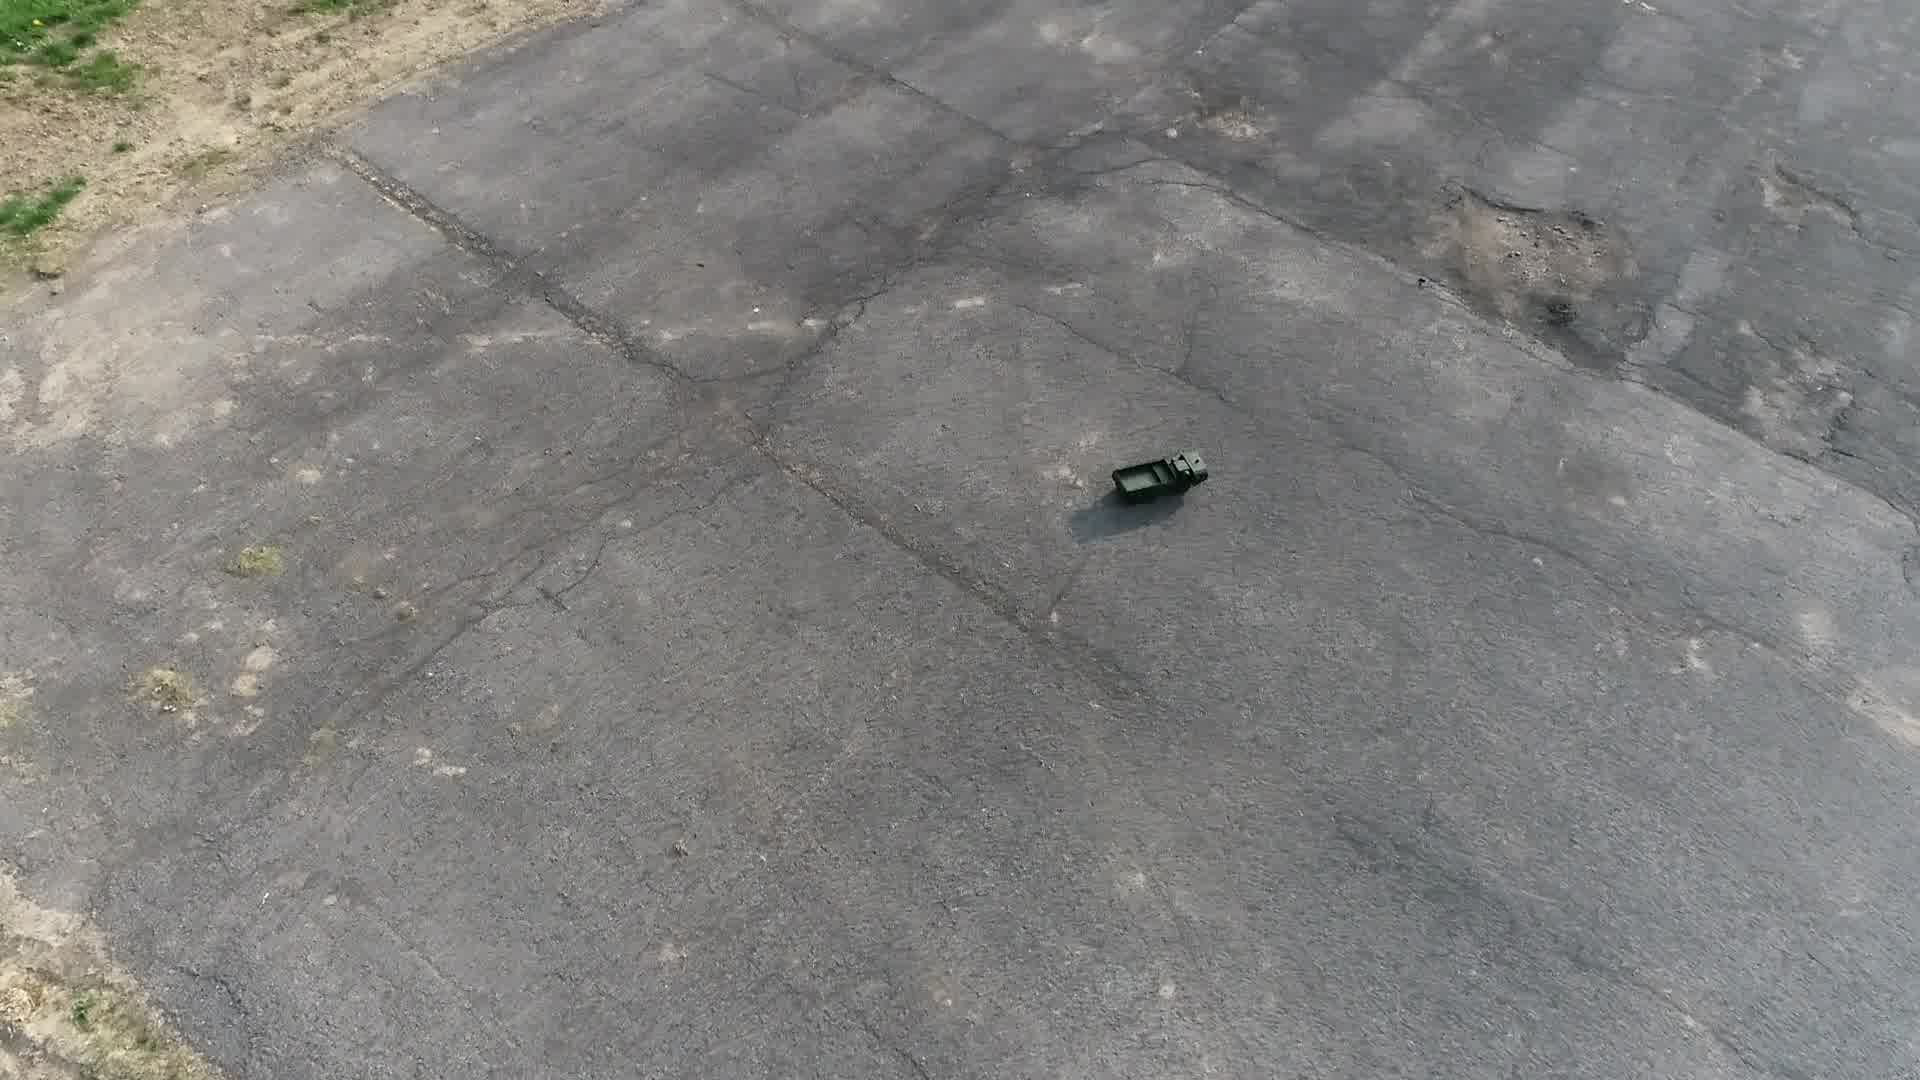transporter9: (1108, 444, 1215, 506)
